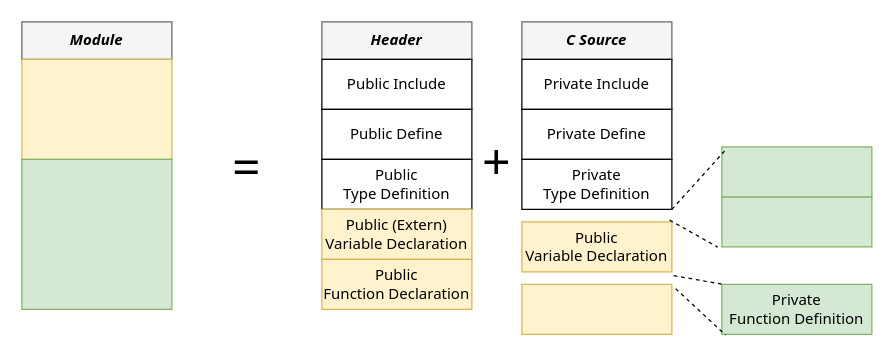
The diagram is 894 pixels wide and 359 high, and some of its shapes have lost their labels. Each missing label, with the centre of its shape:
Private Function Declaration: pixel 796 221
Private Variable Declaration: pixel 796 171
Private Variable Private Function: pixel 96 233
Public Function Definition: pixel 596 308
Public Variable Public Function: pixel 96 108
